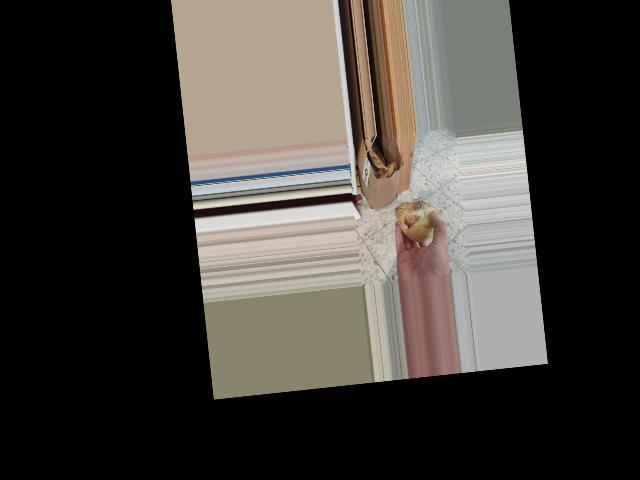onion: (393, 196, 443, 246)
